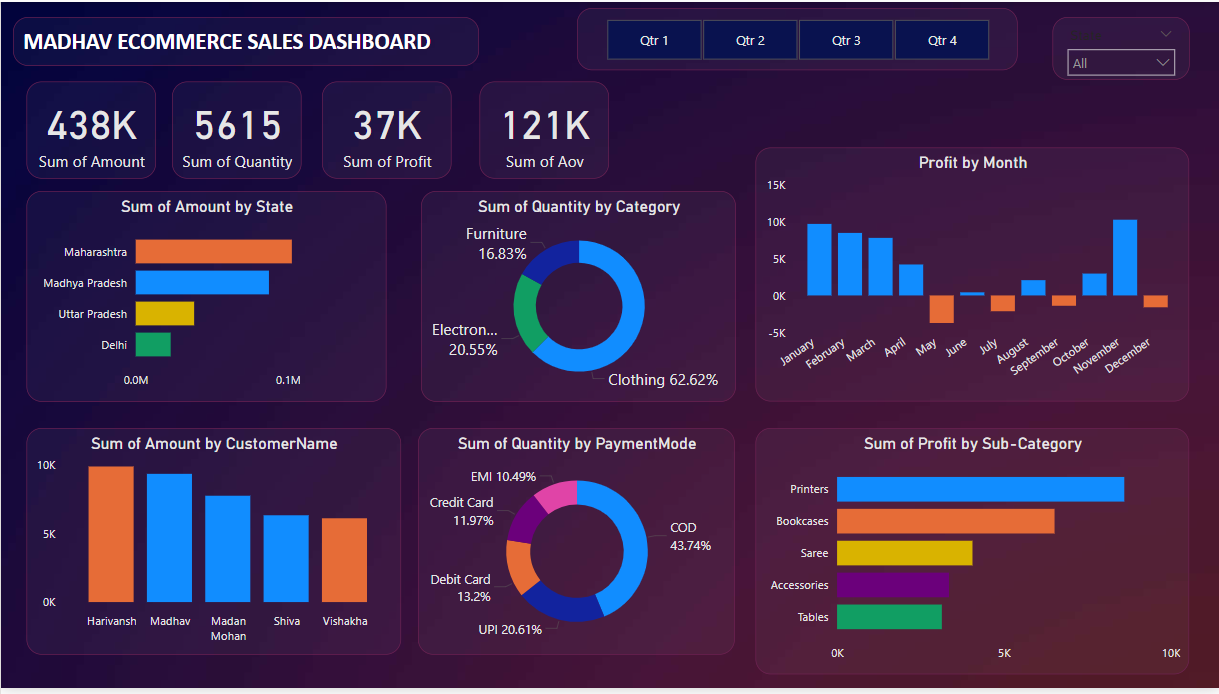

The dashboard page shown, as its layout file describes it:
{"tool":"powerbi","page":{"name":"Page 1","canvas":[1280,720],"ordinal":0},"visuals":[{"type":"textbox","box":[13.2,15.1,489.5,51],"z":0},{"type":"clusteredColumnChart","title":" Profit by Month","fields":{"Y":["Details.Profit"],"Category":["Orders.Order Date.Variation.Date Hierarchy.Month"]},"box":[791.8,153.1,455.4,266.5],"z":1000},{"type":"barChart","fields":{"Category":["Details.Sub-Category"],"Y":["Details.Profit"]},"box":[791.8,447.9,455.4,258.9],"z":2000},{"type":"donutChart","fields":{"Category":["Details.Category"],"Y":["Details.Quantity"]},"box":[440.3,198.4,330.7,221.1],"z":3000},{"type":"donutChart","fields":{"Category":["Details.PaymentMode"],"Y":["Details.Quantity"]},"box":[438.4,447.9,332.6,238.1],"z":4000},{"type":"card","fields":{"Values":["Details.Amount"]},"box":[26.5,83.2,136.1,102],"z":5000},{"type":"card","fields":{"Values":["Details.Quantity"]},"box":[179.5,83.2,136.1,102],"z":6000},{"type":"card","fields":{"Values":["Details.Profit"]},"box":[336.4,83.2,136.1,102],"z":7000},{"type":"card","fields":{"Values":["Details.Aov"]},"box":[502.7,83.2,136.1,102],"z":8000},{"type":"barChart","fields":{"Category":["Orders.State"],"Y":["Details.Amount"]},"box":[26.5,198.4,378,221.1],"z":9000},{"type":"columnChart","fields":{"Category":["Orders.CustomerName"],"Y":["Details.Amount"]},"box":[26.5,447.9,393.1,238.1],"z":10000},{"type":"slicer","fields":{"Values":["Orders.Order Date.Variation.Date Hierarchy.Quarter"]},"box":[605.6,6,462.6,65.5],"z":11000},{"type":"slicer","fields":{"Values":["Orders.State"]},"box":[1104,16,144,66],"z":12000}]}

Visuals, with their boxes in screenshot pixels (x1, y1, x2, y2), scaled from the page's 1280x720 canvas onto the 1219x694 screenshot:
textbox: {"left": 13, "top": 15, "right": 479, "bottom": 64}
" Profit by Month" clusteredColumnChart: {"left": 754, "top": 148, "right": 1188, "bottom": 404}
barChart - Details.Sub-Category x Details.Profit: {"left": 754, "top": 432, "right": 1188, "bottom": 681}
donutChart - Details.Category x Details.Quantity: {"left": 419, "top": 191, "right": 734, "bottom": 404}
donutChart - Details.PaymentMode x Details.Quantity: {"left": 418, "top": 432, "right": 734, "bottom": 661}
card - Details.Amount: {"left": 25, "top": 80, "right": 155, "bottom": 179}
card - Details.Quantity: {"left": 171, "top": 80, "right": 301, "bottom": 179}
card - Details.Profit: {"left": 320, "top": 80, "right": 450, "bottom": 179}
card - Details.Aov: {"left": 479, "top": 80, "right": 608, "bottom": 179}
barChart - Orders.State x Details.Amount: {"left": 25, "top": 191, "right": 385, "bottom": 404}
columnChart - Orders.CustomerName x Details.Amount: {"left": 25, "top": 432, "right": 400, "bottom": 661}
slicer - Orders.Order Date.Variation.Date Hierarchy.Quarter: {"left": 577, "top": 6, "right": 1017, "bottom": 69}
slicer - Orders.State: {"left": 1051, "top": 15, "right": 1189, "bottom": 79}
